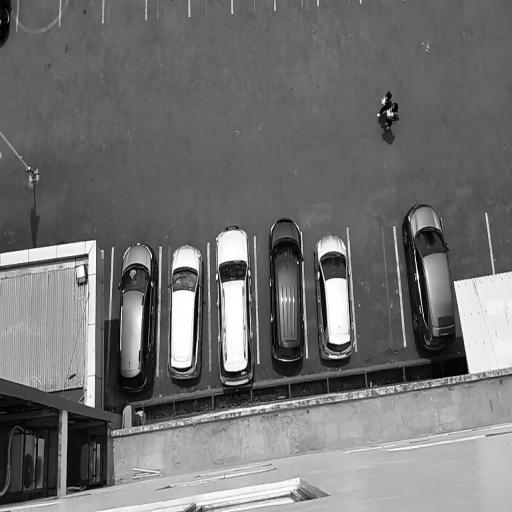Car: (399, 200, 460, 359), (215, 218, 259, 404), (115, 238, 159, 394), (266, 215, 307, 366), (165, 240, 205, 388), (312, 231, 356, 365)
Space Available: (350, 227, 405, 351), (443, 213, 494, 281), (488, 211, 512, 274), (17, 0, 60, 33), (60, 0, 105, 26), (103, 0, 146, 23), (190, 0, 233, 17), (147, 0, 189, 17), (232, 0, 275, 14)
